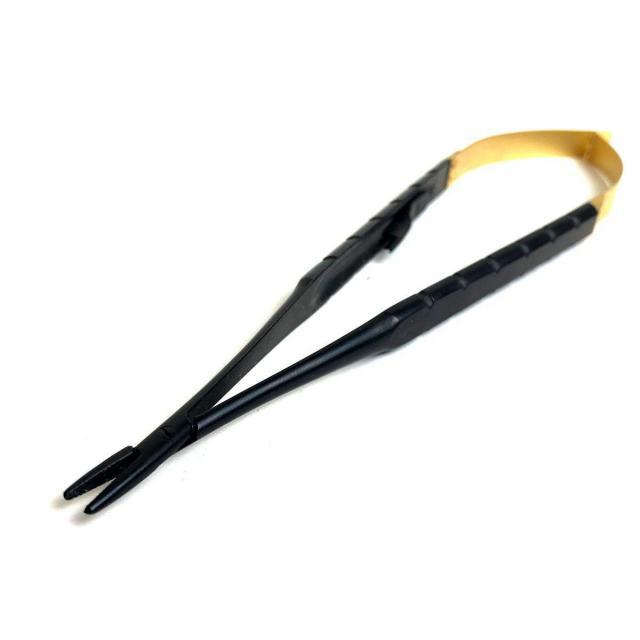Castroviejo: (60, 125, 624, 518)
